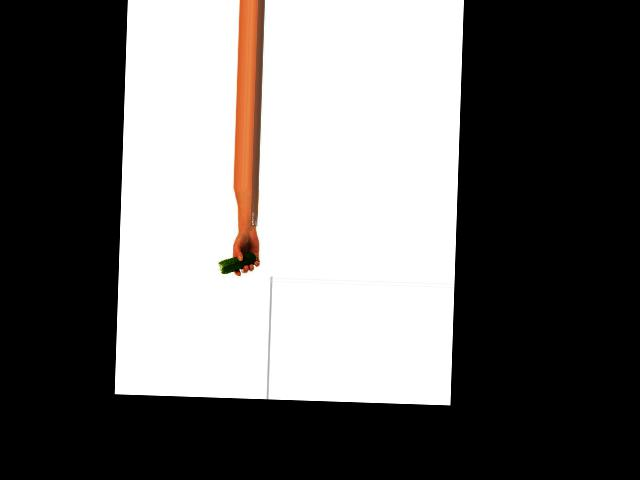cucumber: (218, 251, 257, 274)
